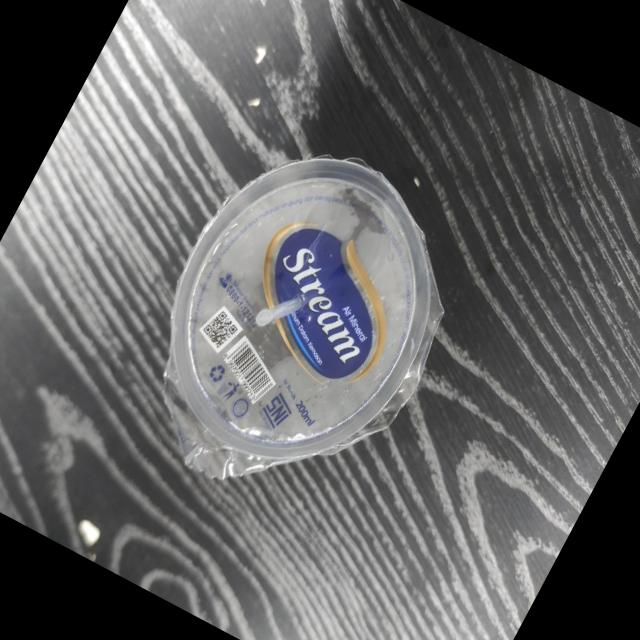GelasPlastik: (98, 108, 500, 547)
